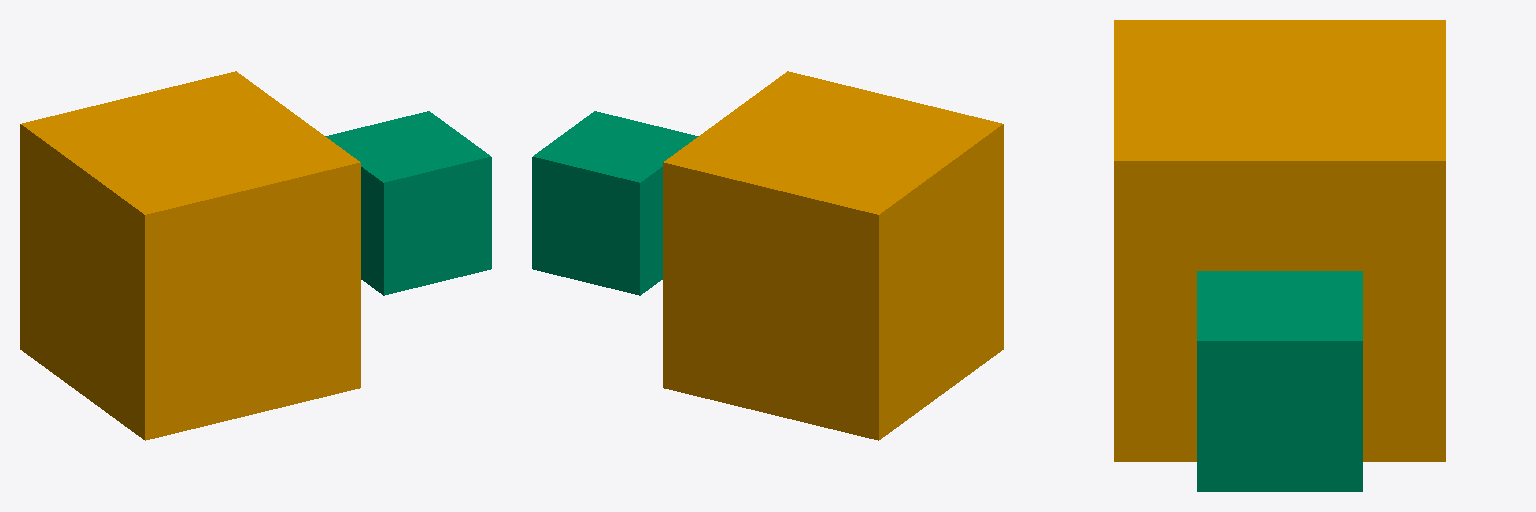
The robot description file, URDF, robot "mass_source_empty_visual":
<?xml version="1.0"?>
<robot name="mass_source_empty_visual">
  <link name="base">
    <inertial>
      <mass value="1"/>
      <inertia ixx="0.01" iyy="0.01" izz="0.01" ixy="0" ixz="0" iyz="0"/>
    </inertial>
    <visual>
      <geometry>
        <box size="0.1 0.1 0.1"/>
      </geometry>
    </visual>
  </link>
  <link name="empty"/>
  <link name="drawn">
    <visual>
      <geometry>
        <box size="0.05 0.05 0.05"/>
      </geometry>
    </visual>
  </link>

  <joint name="empty_joint" type="revolute">
    <parent link="base"/>
    <child link="empty"/>
    <axis xyz="0 0 1"/>
  </joint>
  <joint name="drawn_joint" type="fixed">
    <parent link="empty"/>
    <child link="drawn"/>
    <origin xyz="0.1 0 0"/>
  </joint>
</robot>

--- What the picture shows (computed from the rendered views, not written in the file) ---
The picture shows the robot from 3 angles, left to right: view 1: azimuth 30°, elevation 25°; view 2: azimuth 150°, elevation 25°; view 3: azimuth 270°, elevation 25°; orthographic projection.
Model mass_source_empty_visual with 3 links and 2 joints (1 revolute, 1 fixed), rooted at base, posed every joint at zero.
Links seen in each view (by area): view 1: base, drawn; view 2: base, drawn; view 3: base, drawn.
Link boxes in pixels (left/top/right/bottom): base: left=20, top=71, right=360, bottom=440; drawn: left=325, top=111, right=491, bottom=295; base: left=663, top=71, right=1003, bottom=440; drawn: left=532, top=111, right=698, bottom=295; base: left=1114, top=20, right=1445, bottom=461; drawn: left=1197, top=271, right=1362, bottom=491.
Bounding box of the posed robot: 0.175 × 0.1 × 0.1 m (x, y, z).
Geometry: primitives only (box / cylinder / sphere), no mesh files.
